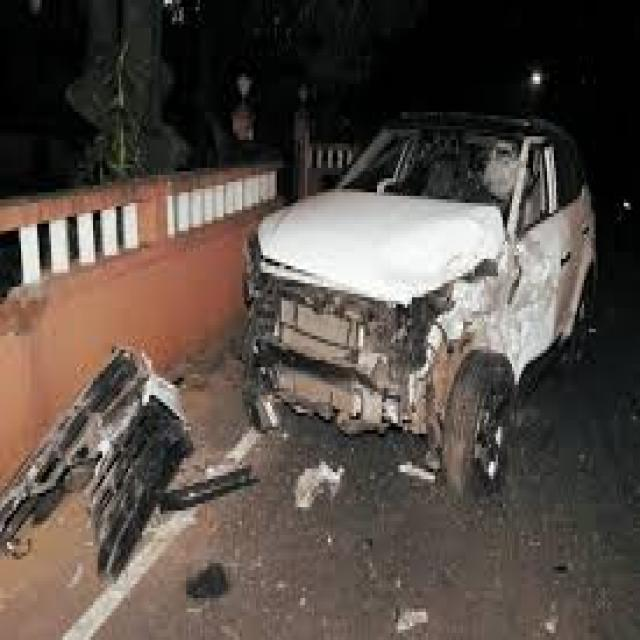accident: (219, 89, 593, 518)
